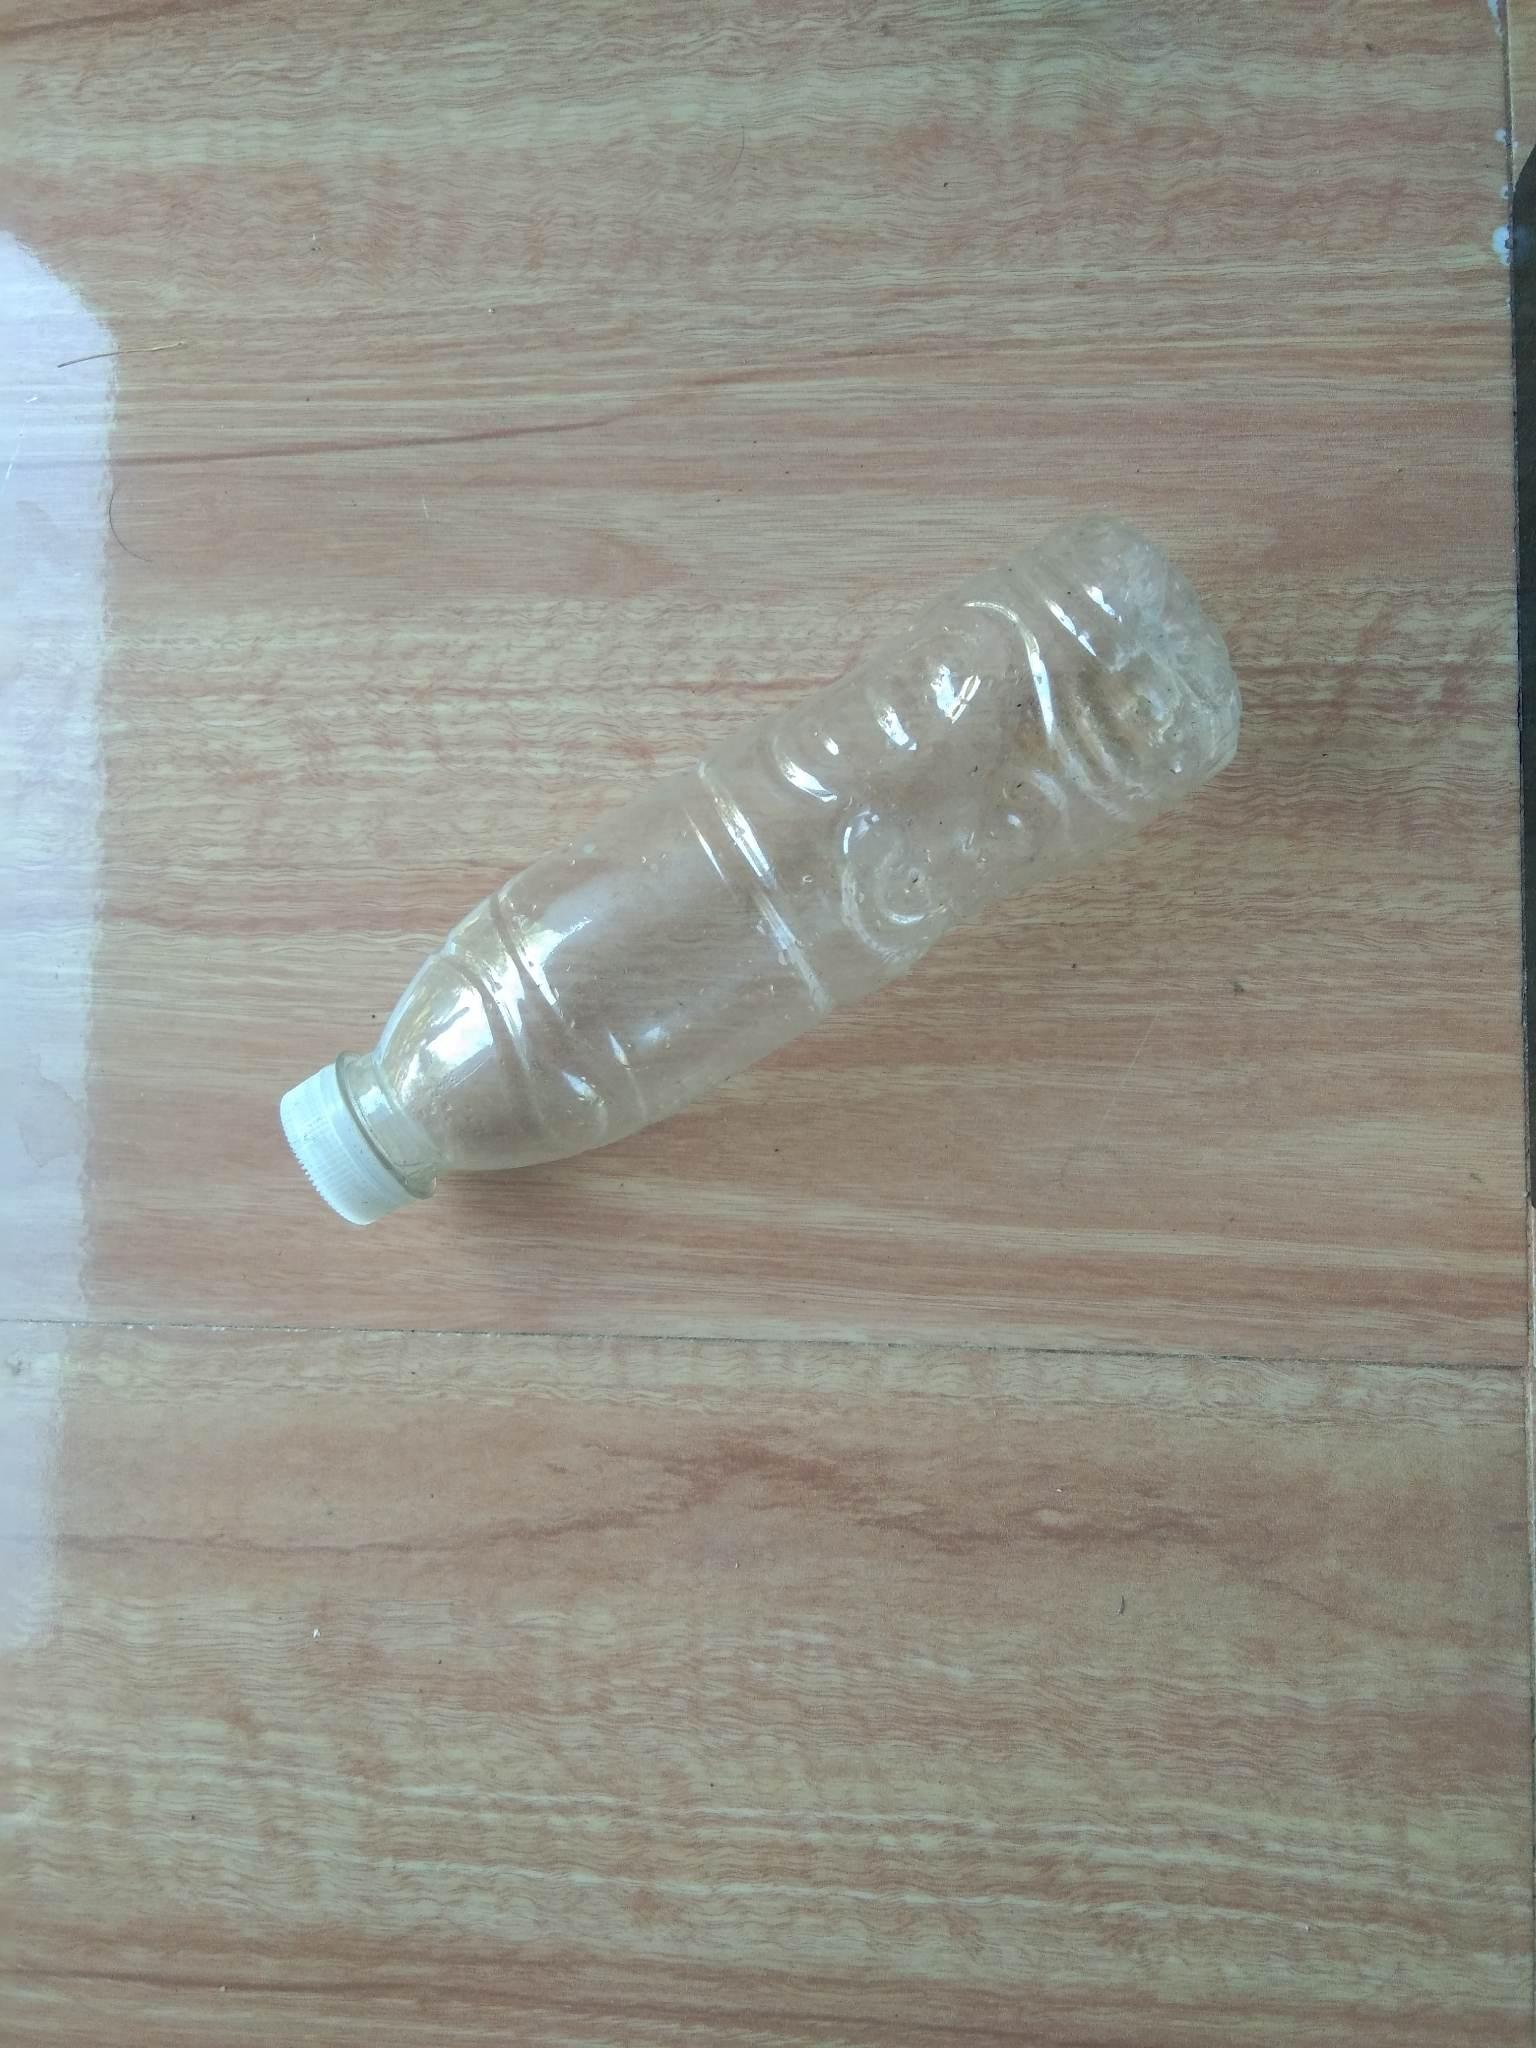plastic: (216, 489, 1292, 1292)
